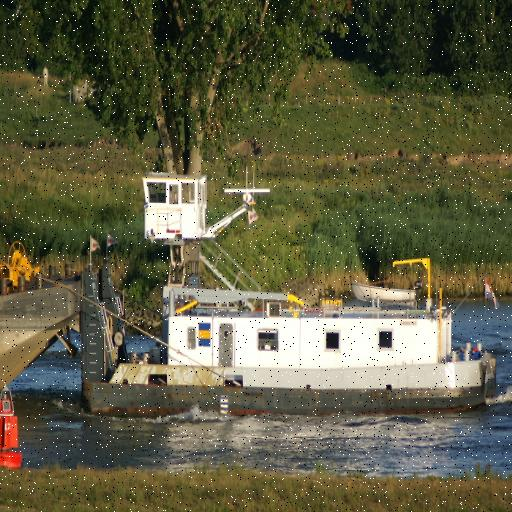tugboat: (76, 153, 504, 428)
